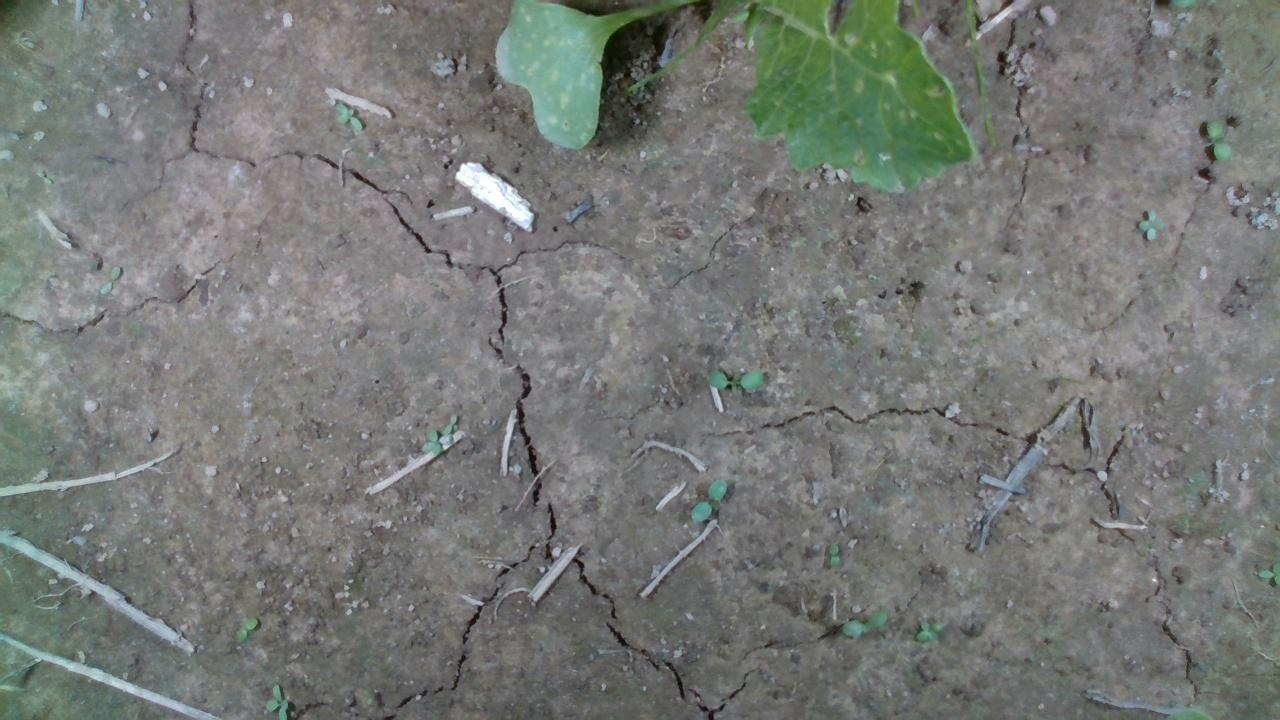weed: (687, 479, 726, 521)
